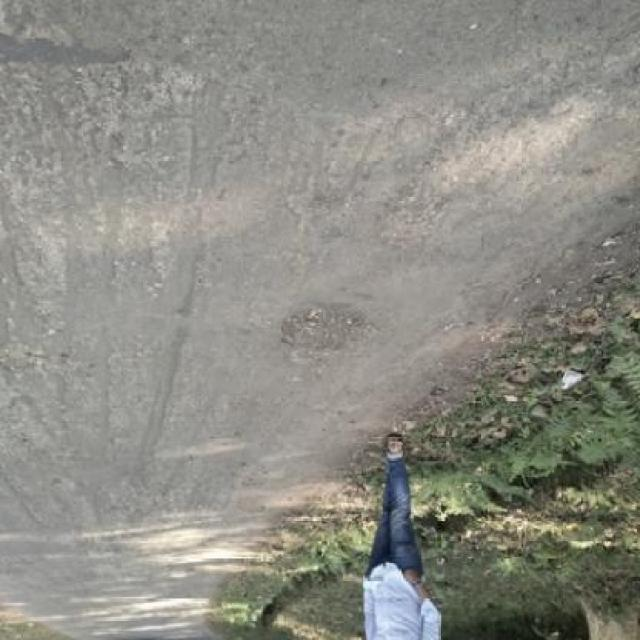pothole1: (275, 306, 368, 356)
